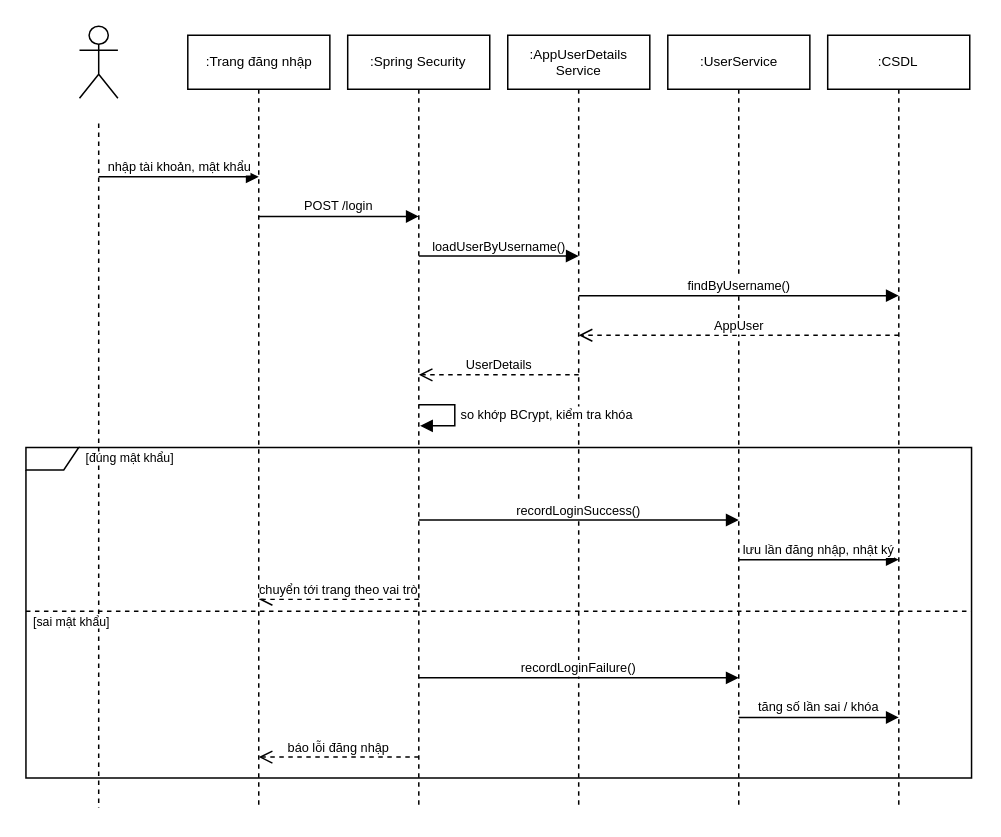
Image size: 1001x837. Some labels were removed from this diagram. The shapes that lost their labels are listed below. From the top down, each one's box as (x1, y1, x2, y2) in pixels, then its label:
(78, 25, 118, 98): Người dùng
(24, 446, 972, 778): alt
